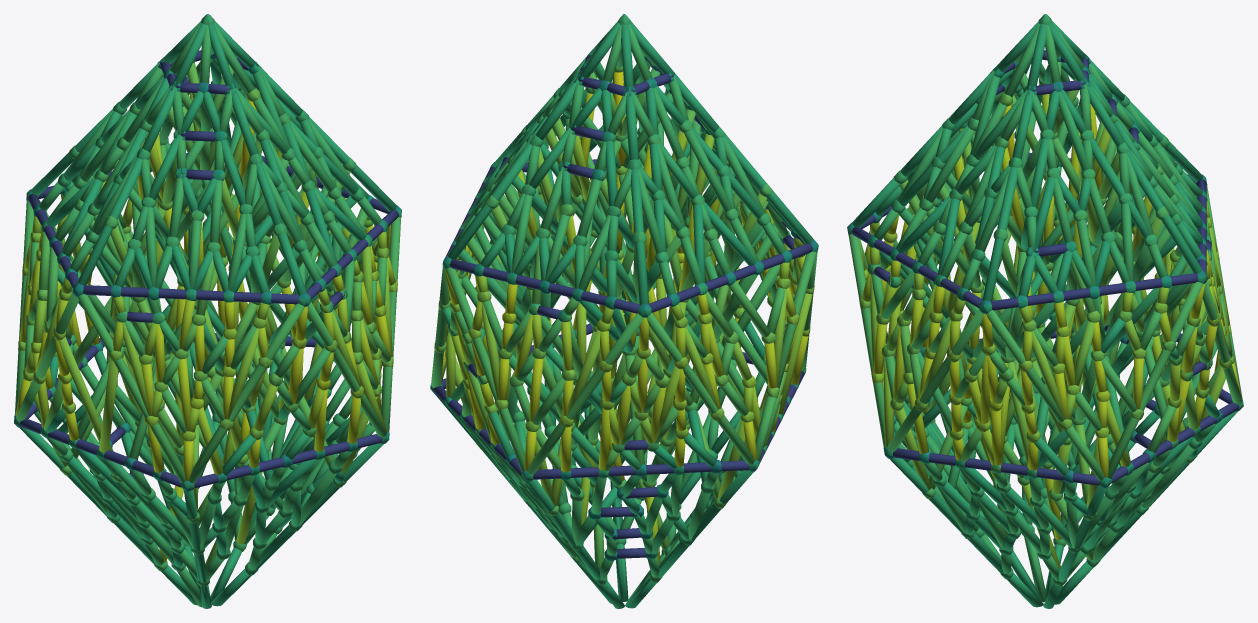
The model's file is icosahedron_T5_S2.glb.
The picture shows the model from 3 angles, left to right: view 1: azimuth 30°, elevation 25°; view 2: azimuth 150°, elevation 25°; view 3: azimuth 270°, elevation 25°; orthographic projection.
Parts seen in each view (by area): view 1: icosahedron; view 2: icosahedron; view 3: icosahedron.
Part boxes in pixels (<box>): icosahedron: <box>14,14,401,608</box>; icosahedron: <box>430,14,818,608</box>; icosahedron: <box>847,14,1243,608</box>.
Bounding box in the file's own units: 69.54 × 120 × 73.08.
